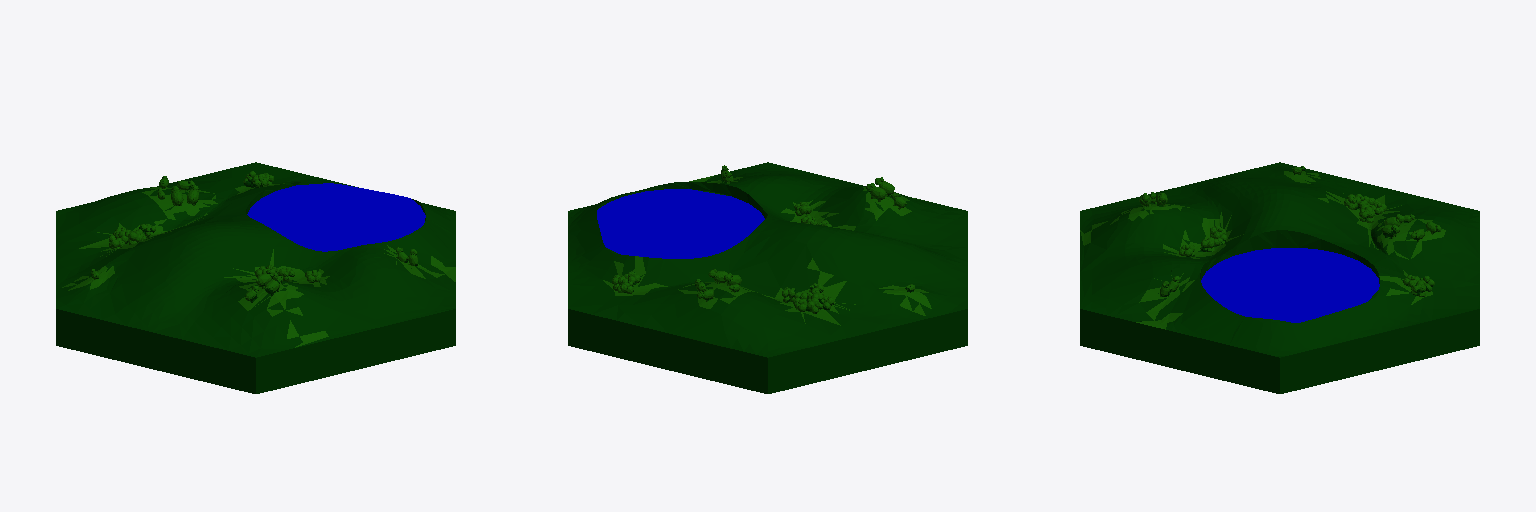
File: wool.obj
3 renders of one model, left to right at view 1: azimuth 30°, elevation 25°; view 2: azimuth 150°, elevation 25°; view 3: azimuth 270°, elevation 25°, orthographic.
Parts seen in each view (by area): view 1: wool_v1; view 2: wool_v1; view 3: wool_v1.
Boxes of the visible parts, x1=… form: wool_v1: x1=56, y1=162, x2=455, y2=393; wool_v1: x1=568, y1=162, x2=967, y2=393; wool_v1: x1=1080, y1=162, x2=1479, y2=393.
Bounding box in the file's own units: 73.32 × 14.3 × 63.5.